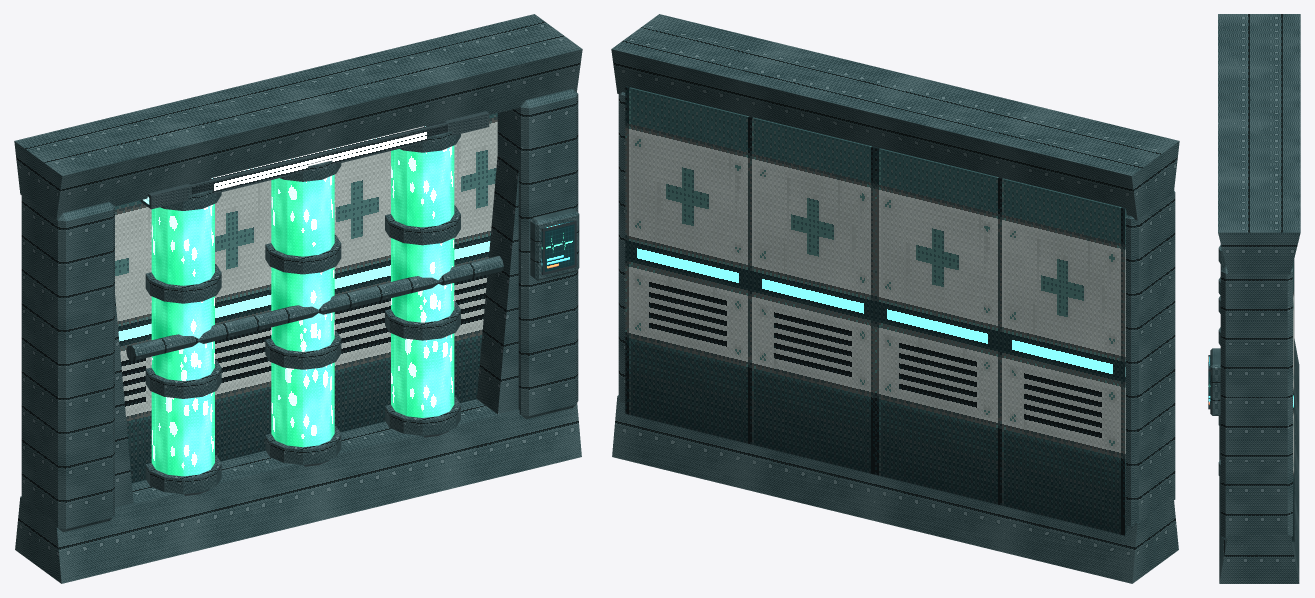
Rendered from wall_bio_segment.glb.
3 renders of one model, left to right at view 1: azimuth 30°, elevation 25°; view 2: azimuth 150°, elevation 25°; view 3: azimuth 270°, elevation 25°, orthographic. The views are drawn at different scales.
Parts seen in each view (by area): view 1: wall_bio_segment__hosp_metal_trim, wall_bio_segment__hosp_wall_main, wall_bio_segment__hosp_bio_glass, wall_bio_segment__hosp_ceiling_panel, wall_bio_segment__hosp_monitor_screen; view 2: wall_bio_segment__hosp_wall_main, wall_bio_segment__hosp_metal_trim; view 3: wall_bio_segment__hosp_metal_trim, wall_bio_segment__hosp_wall_main, wall_bio_segment__hosp_monitor_screen.
Boxes of the visible parts, x1=… form: wall_bio_segment__hosp_metal_trim: x1=14, y1=14, x2=582, y2=583; wall_bio_segment__hosp_wall_main: x1=115, y1=113, x2=497, y2=482; wall_bio_segment__hosp_bio_glass: x1=151, y1=145, x2=454, y2=495; wall_bio_segment__hosp_ceiling_panel: x1=140, y1=111, x2=489, y2=209; wall_bio_segment__hosp_monitor_screen: x1=541, y1=220, x2=576, y2=275; wall_bio_segment__hosp_wall_main: x1=625, y1=86, x2=1126, y2=535; wall_bio_segment__hosp_metal_trim: x1=611, y1=14, x2=1179, y2=583; wall_bio_segment__hosp_metal_trim: x1=1210, y1=14, x2=1300, y2=583; wall_bio_segment__hosp_wall_main: x1=1291, y1=259, x2=1294, y2=541; wall_bio_segment__hosp_monitor_screen: x1=1208, y1=355, x2=1210, y2=409.
Bounding box in the file's own units: 4 × 3 × 0.715.
Materials: 5 (5 with a texture image).
